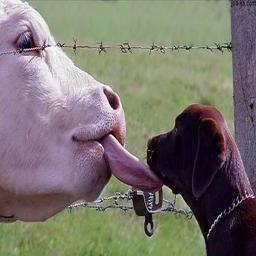cow: (34, 1, 256, 249)
dog: (149, 113, 256, 256)
